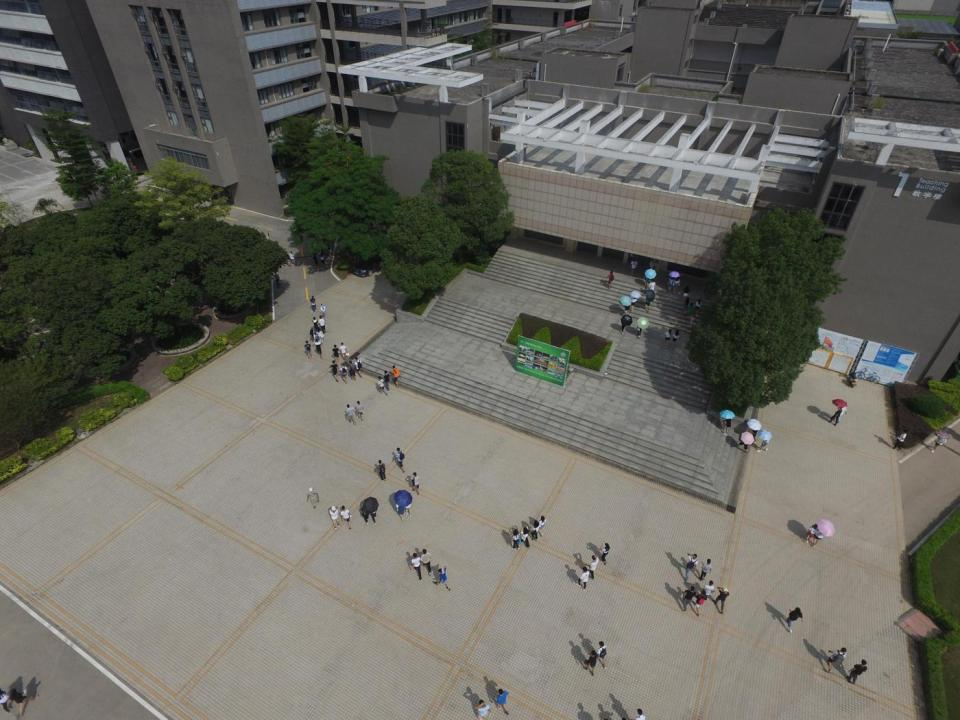car: (351, 252, 388, 278)
